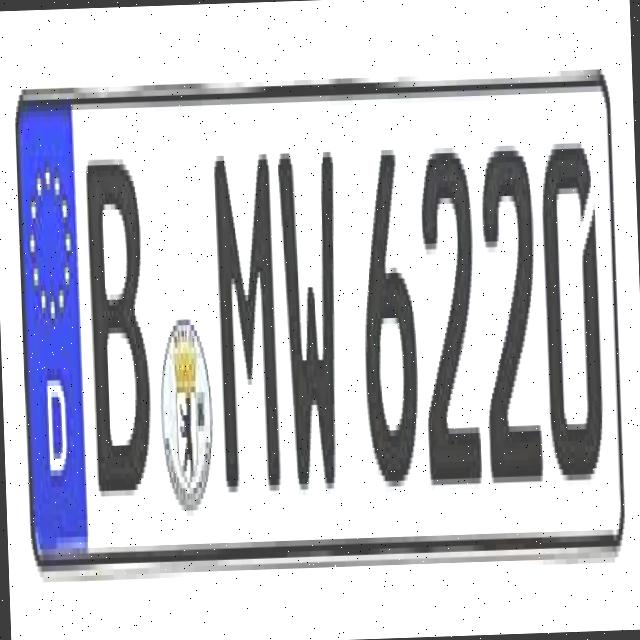Allemagne: (12, 96, 86, 554)
EU: (12, 76, 626, 564)
